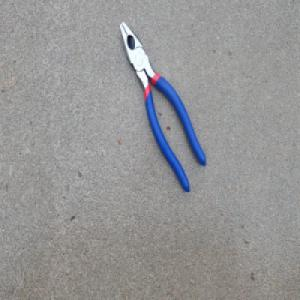Pliers: (117, 18, 206, 194)
